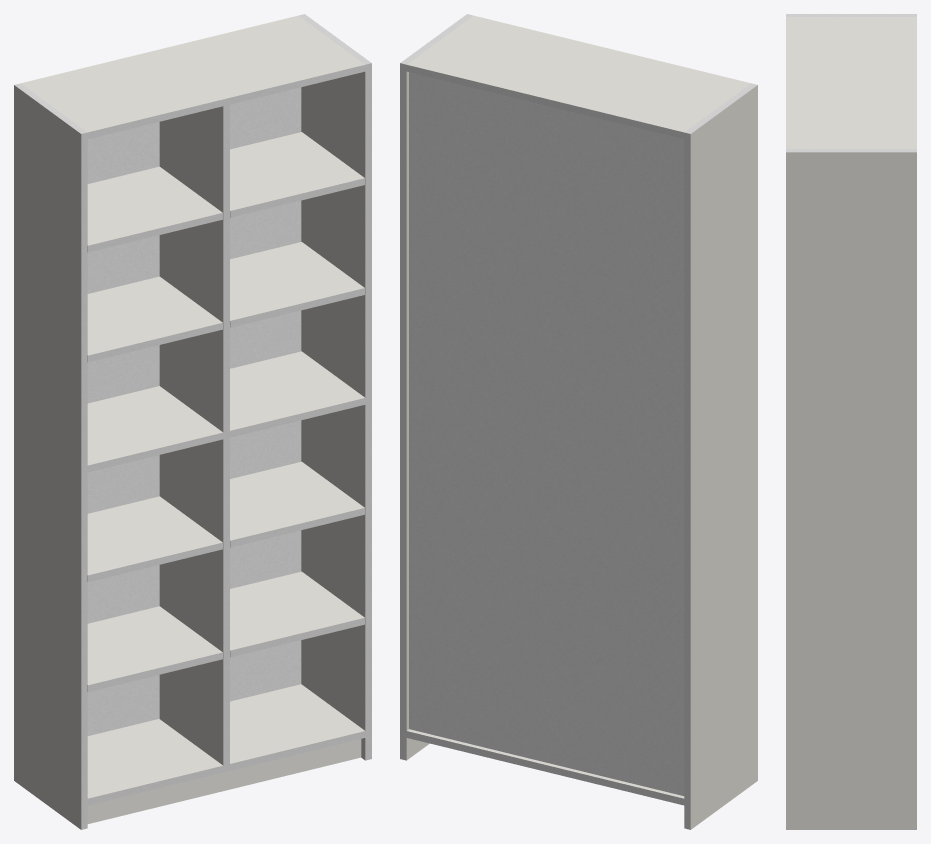
Rendered from LIT-BKC-std.glb.
The picture shows the model from 3 angles, left to right: view 1: azimuth 30°, elevation 25°; view 2: azimuth 150°, elevation 25°; view 3: azimuth 270°, elevation 25°; orthographic projection. The views are drawn at different scales.
Parts seen in each view (by area): view 1: side-l:pbr, back:sheet:eyJtIjoibWRmIiwic2lkZSI6ImZhY2UiLCJzZWVkIjo0LCJ0a, side-r:pbr, partition:pbr, top:pbr, bottom:pbr, shelf-fixedl:pbr, shelf-3:pbr, shelf-5:pbr, shelf-7:pbr, shelf-1:pbr, shelf-fixedr:pbr (+20 smaller); view 2: back:sheet:eyJtIjoibWRmIiwic2lkZSI6ImZhY2UiLCJzZWVkIjo0LCJ0a, side-l:pbr, top:pbr, side-l:sheet:eyJtIjoibWRmIiwic2lkZSI6ImVkZ2UtbG9uZyIsInNlZWQ, side-r:sheet:eyJtIjoibWRmIiwic2lkZSI6ImVkZ2UtbG9uZyIsInNlZWQ, side-r:pbr, bottom:sheet:eyJtIjoibWRmIiwic2lkZSI6ImVkZ2UtbG9uZyIsInNlZWQ, top:sheet:eyJtIjoibWRmIiwic2lkZSI6ImVkZ2UtbG9uZyIsInNlZWQiOj, bottom:pbr; view 3: side-r:pbr, top:pbr, side-r:sheet:eyJtIjoibWRmIiwic2lkZSI6ImVkZ2UtZW5kIiwic2VlZCI, side-l:sheet:eyJtIjoibWRmIiwic2lkZSI6ImVkZ2UtZW5kIiwic2VlZCI.
Part boxes in pixels (x1,y1,x2,y2): side-l:pbr: (14,85,81,829); back:sheet:eyJtIjoibWRmIiwic2lkZSI6ImZhY2UiLCJzZWVkIjo0LCJ0a: (87,87,301,735); side-r:pbr: (301,71,365,760); partition:pbr: (159,106,223,765); top:pbr: (21,15,364,132); bottom:pbr: (87,684,364,798); shelf-fixedl:pbr: (87,386,222,465); shelf-3:pbr: (87,496,222,575); shelf-5:pbr: (87,276,222,355); shelf-7:pbr: (87,166,222,245); shelf-1:pbr: (87,606,222,685); shelf-fixedr:pbr: (230,351,364,430); back:sheet:eyJtIjoibWRmIiwic2lkZSI6ImZhY2UiLCJzZWVkIjo0LCJ0a: (409,72,684,795); side-l:pbr: (690,85,757,829); top:pbr: (407,15,750,132); side-l:sheet:eyJtIjoibWRmIiwic2lkZSI6ImVkZ2UtbG9uZyIsInNlZWQ: (684,132,690,829); side-r:sheet:eyJtIjoibWRmIiwic2lkZSI6ImVkZ2UtbG9uZyIsInNlZWQ: (400,63,406,760); side-r:pbr: (406,71,429,760); bottom:sheet:eyJtIjoibWRmIiwic2lkZSI6ImVkZ2UtbG9uZyIsInNlZWQ: (406,731,684,805); top:sheet:eyJtIjoibWRmIiwic2lkZSI6ImVkZ2UtbG9uZyIsInNlZWQiOj: (406,65,684,138); bottom:pbr: (407,729,684,798); side-r:pbr: (786,152,916,829); top:pbr: (786,17,916,148); side-r:sheet:eyJtIjoibWRmIiwic2lkZSI6ImVkZ2UtZW5kIiwic2VlZCI: (786,149,916,152); side-l:sheet:eyJtIjoibWRmIiwic2lkZSI6ImVkZ2UtZW5kIiwic2VlZCI: (786,14,916,16).
Bounding box in the file's own units: 0.8 × 1.83 × 0.32.
51 materials, 35 textured.
